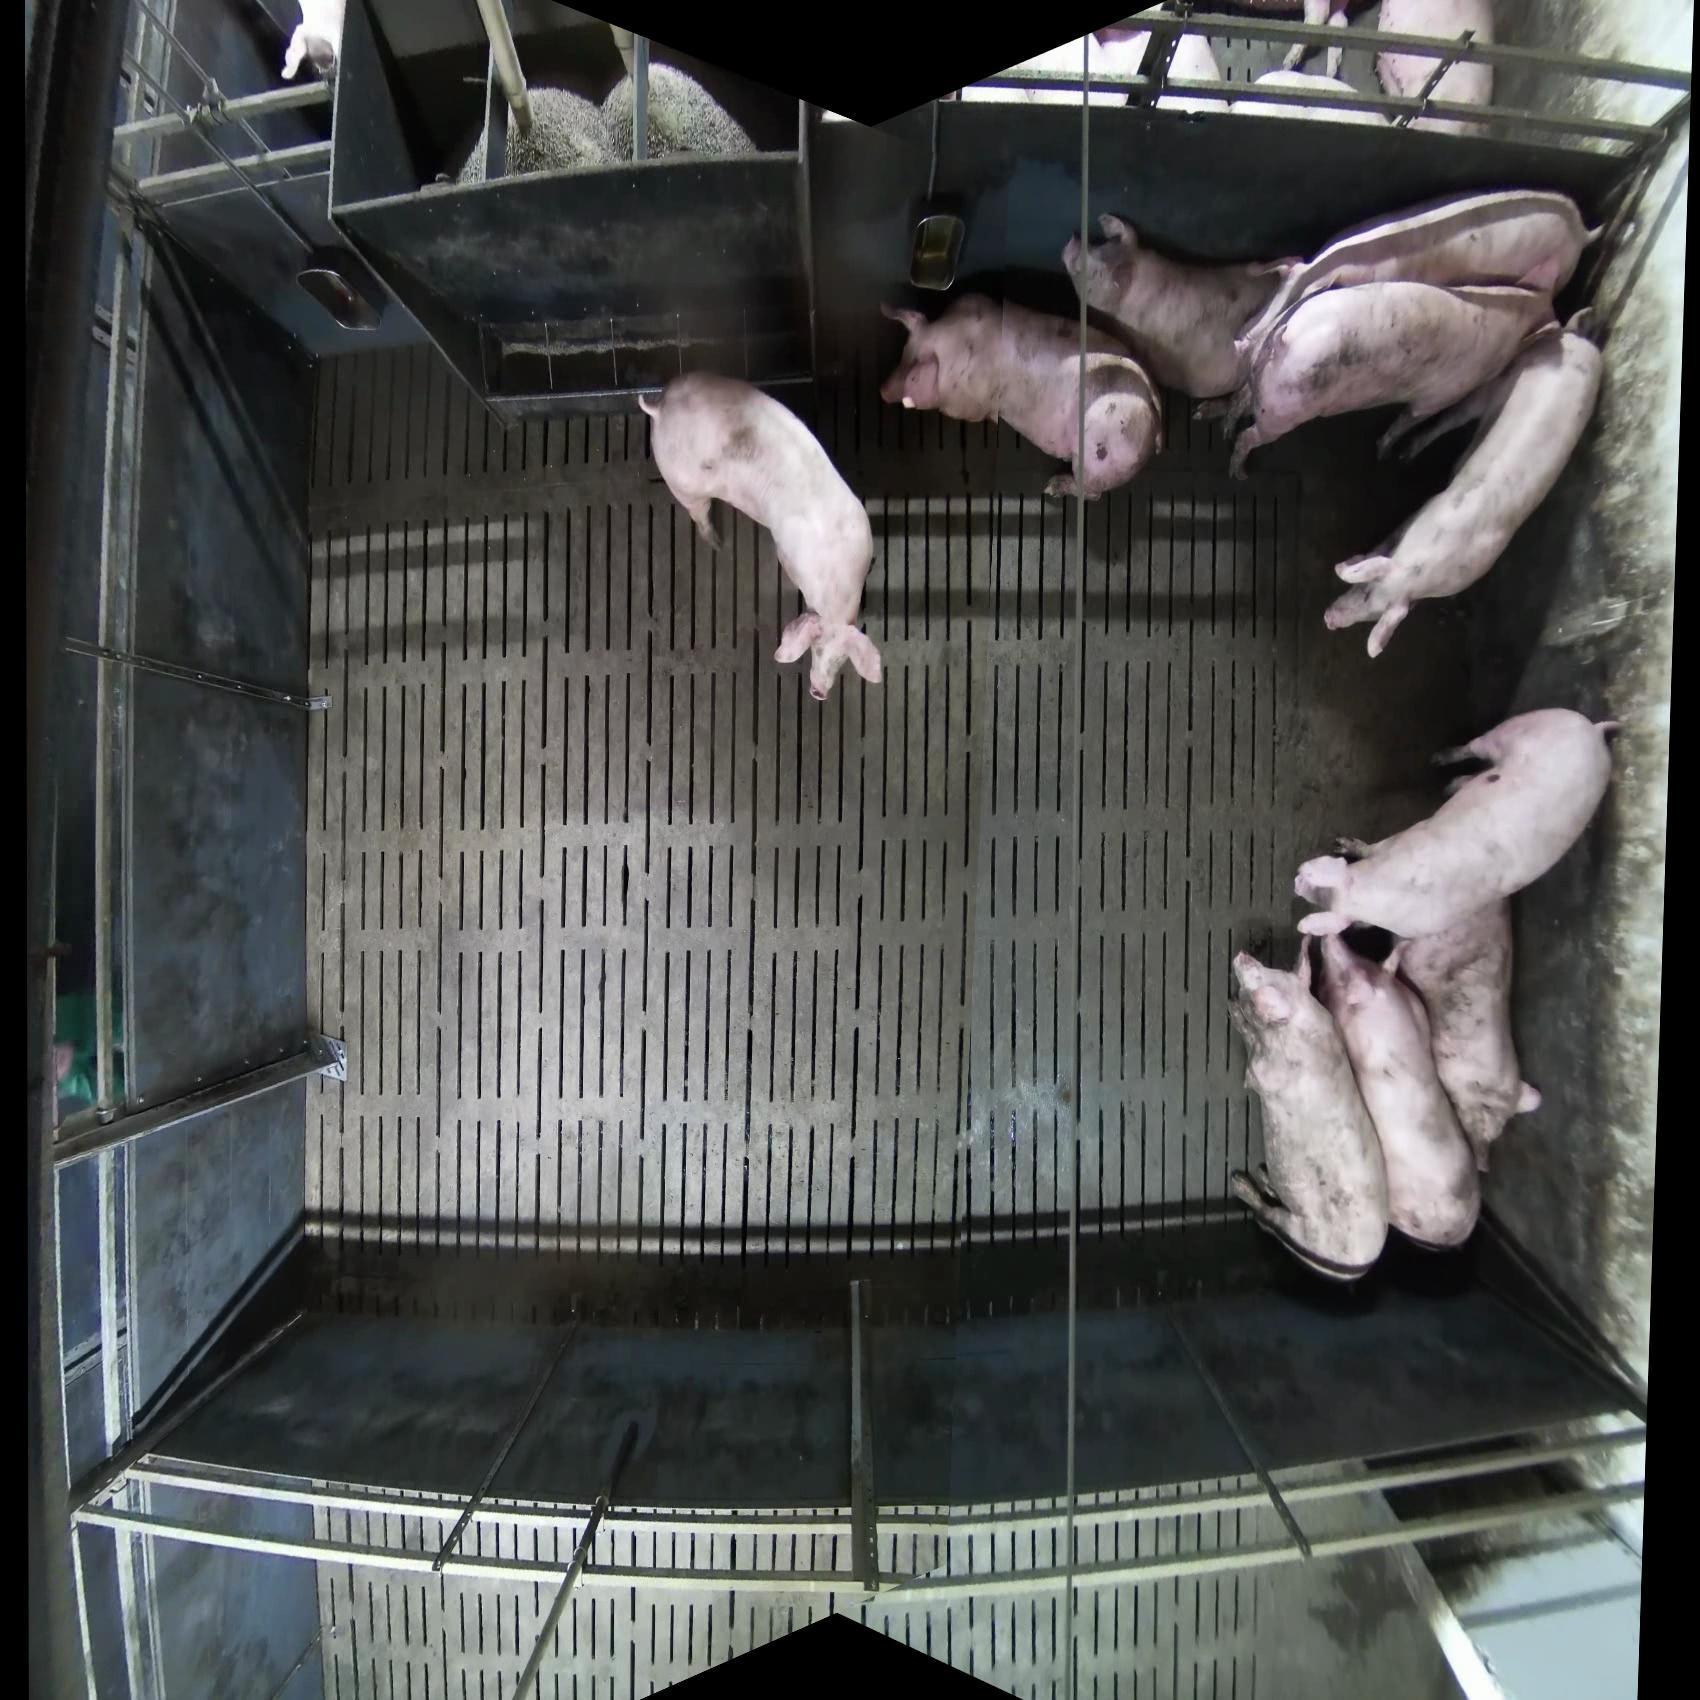pig: (1322, 307, 1607, 660), (635, 369, 884, 704), (1292, 705, 1624, 945), (1233, 187, 1599, 392), (1222, 279, 1563, 486), (878, 291, 1166, 503), (1224, 940, 1392, 1283), (1311, 926, 1485, 1252), (1062, 209, 1309, 414), (1390, 894, 1543, 1174), (1375, 2, 1498, 137), (1088, 23, 1228, 115), (1281, 2, 1354, 87)
